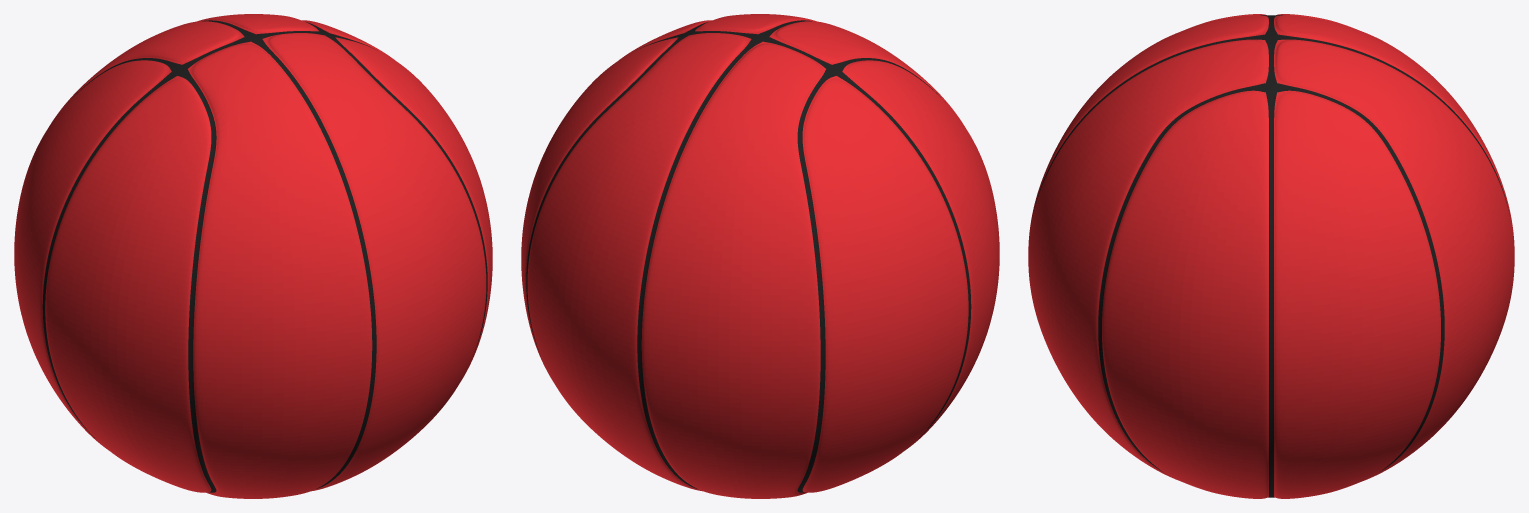
File: basket_ball.fbx
3 renders of one model, left to right at view 1: azimuth 30°, elevation 25°; view 2: azimuth 150°, elevation 25°; view 3: azimuth 270°, elevation 25°, orthographic.
Visible parts, largest first — view 1: hp_basket_ball; view 2: hp_basket_ball; view 3: hp_basket_ball.
Boxes of the visible parts, x1,y1,x2,y2 form: hp_basket_ball: [14, 14, 492, 498]; hp_basket_ball: [521, 14, 999, 498]; hp_basket_ball: [1028, 14, 1514, 498].
Size of the model in its own units: 20 by 20 by 20.
